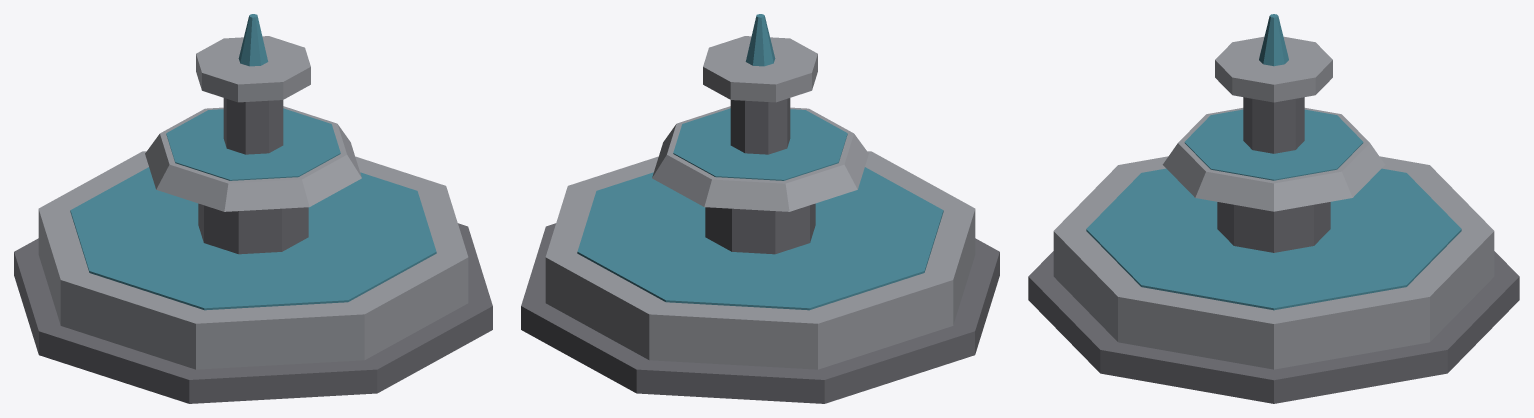
The model's file is Stylized_Landmark_FountainPlaza.fbx.
3 renders of one model, left to right at view 1: azimuth 30°, elevation 25°; view 2: azimuth 150°, elevation 25°; view 3: azimuth 270°, elevation 25°, orthographic.
Visible parts, largest first — view 1: Stylized_Landmark_FountainPlaza; view 2: Stylized_Landmark_FountainPlaza; view 3: Stylized_Landmark_FountainPlaza.
Part boxes in pixels (x1,y1,x2,y2): Stylized_Landmark_FountainPlaza: (14, 14, 492, 403); Stylized_Landmark_FountainPlaza: (521, 14, 999, 403); Stylized_Landmark_FountainPlaza: (1028, 14, 1519, 403).
Bounding box in the file's own units: 4.5 × 2.88 × 4.5.
